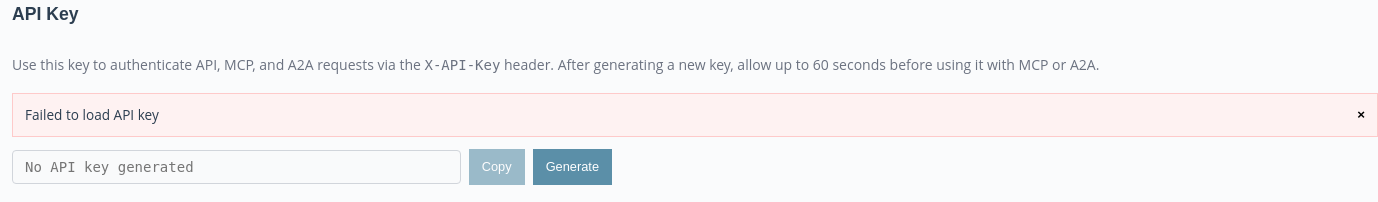
Test case: ApiKeyManager › dismisses error on close click
The image size is (1378, 202).
Expected: the text "Failed to load API key" is shown, [25,105,159,124]
Click the button "×": (1361,115) [1357,107,1365,122]
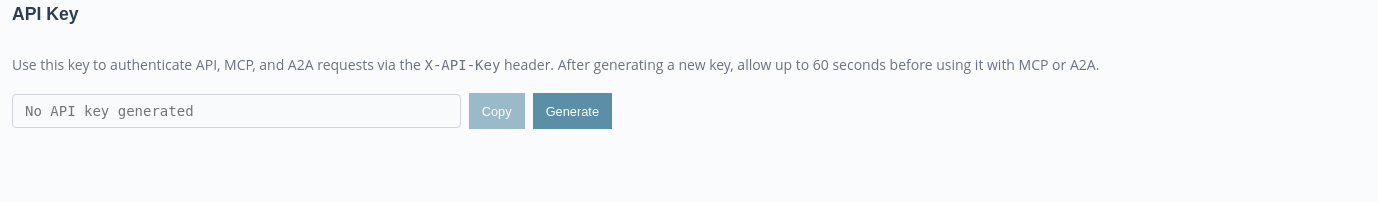
Expected: the text "Failed to load API key" is gone
